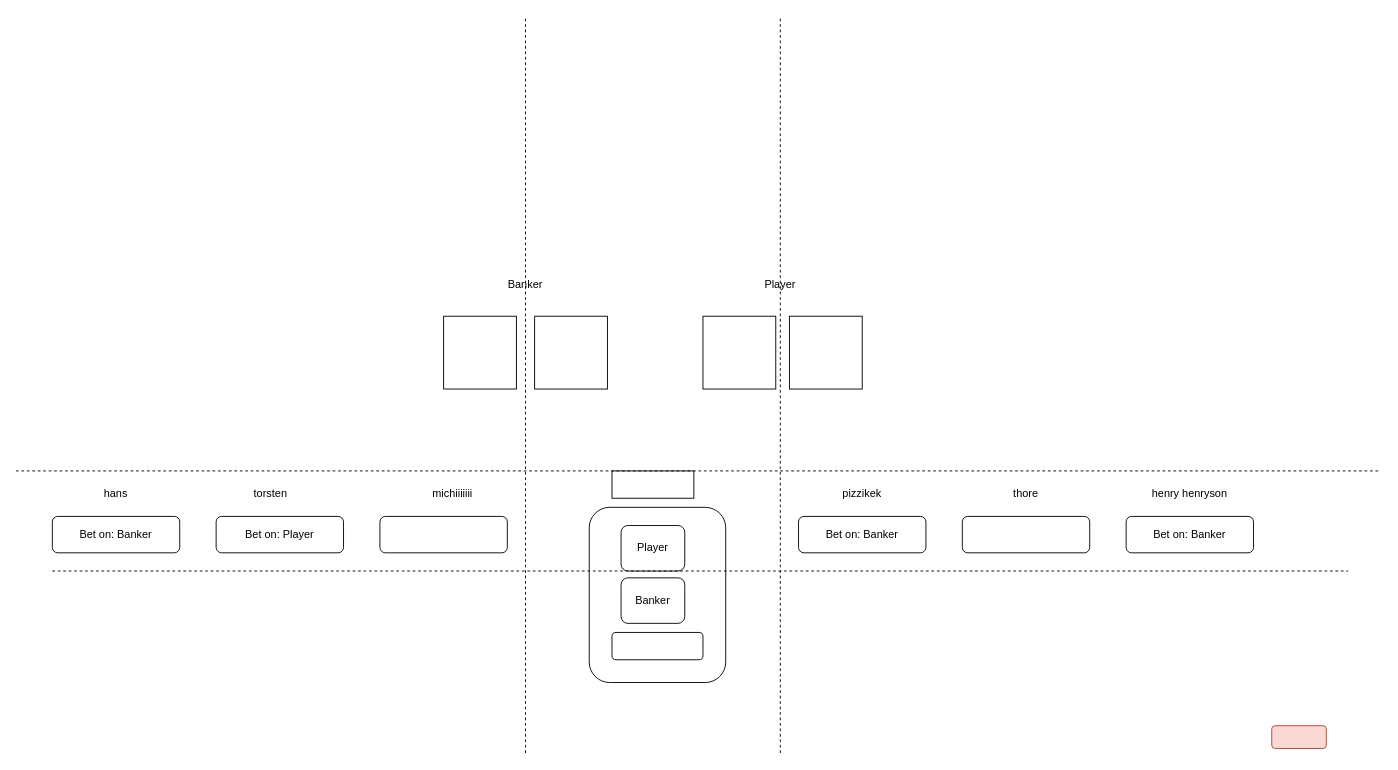
Some shapes in this 1398 by 770 pixel diagram are drawn without their labels. Each missing label, with the box of its shape:
Bet:: (611, 632, 703, 660)
Leave: (1271, 725, 1326, 748)
Points: 51365: (611, 470, 694, 498)
